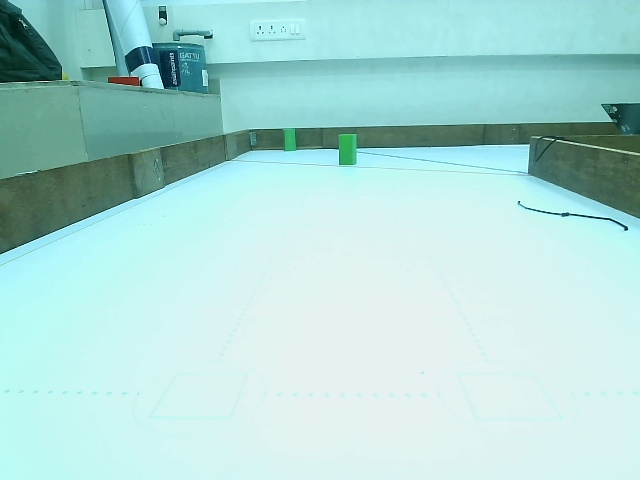green: (338, 134, 357, 164), (284, 129, 297, 151)
